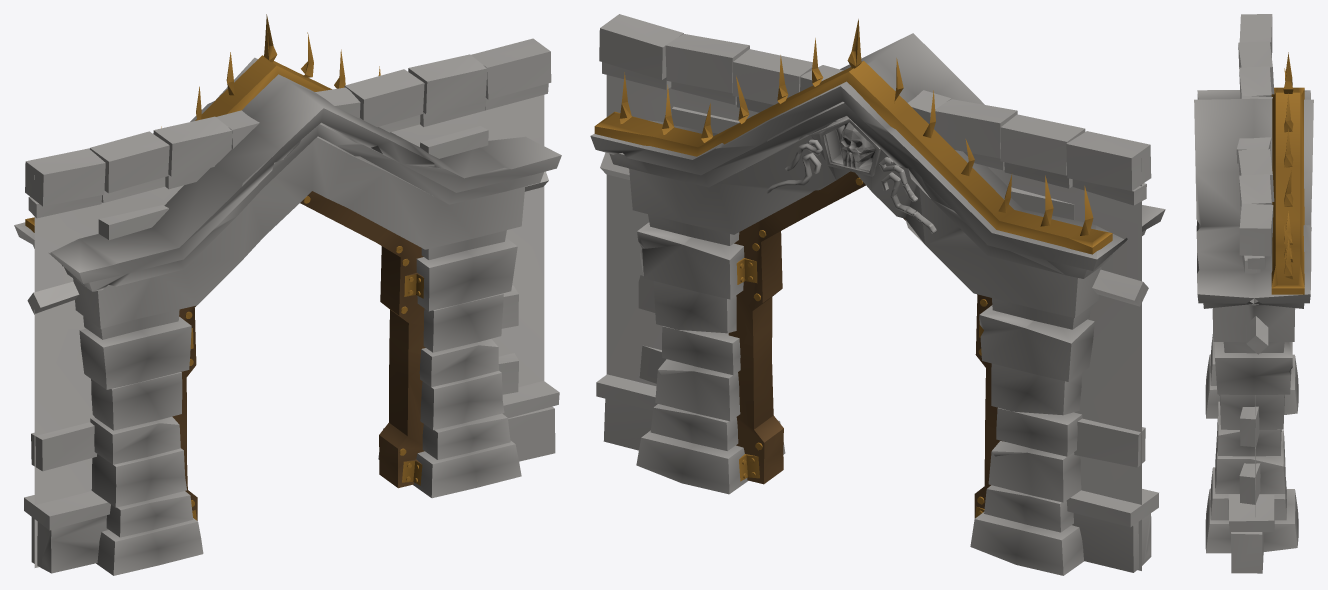
File: wall_archPointy_decorated_LOW.FBX
3 renders of one model, left to right at view 1: azimuth 30°, elevation 25°; view 2: azimuth 150°, elevation 25°; view 3: azimuth 270°, elevation 25°, orthographic. The views are drawn at different scales.
Parts seen in each view (by area): view 1: wall_archPointy_decorated_LOW; view 2: wall_archPointy_decorated_LOW; view 3: wall_archPointy_decorated_LOW.
Boxes of the visible parts, x1,y1,x2,y2 form: wall_archPointy_decorated_LOW: (14, 14, 561, 575); wall_archPointy_decorated_LOW: (590, 14, 1165, 575); wall_archPointy_decorated_LOW: (1194, 14, 1313, 573).
Size of the model in its own units: 8.02 by 7.19 by 1.88.
